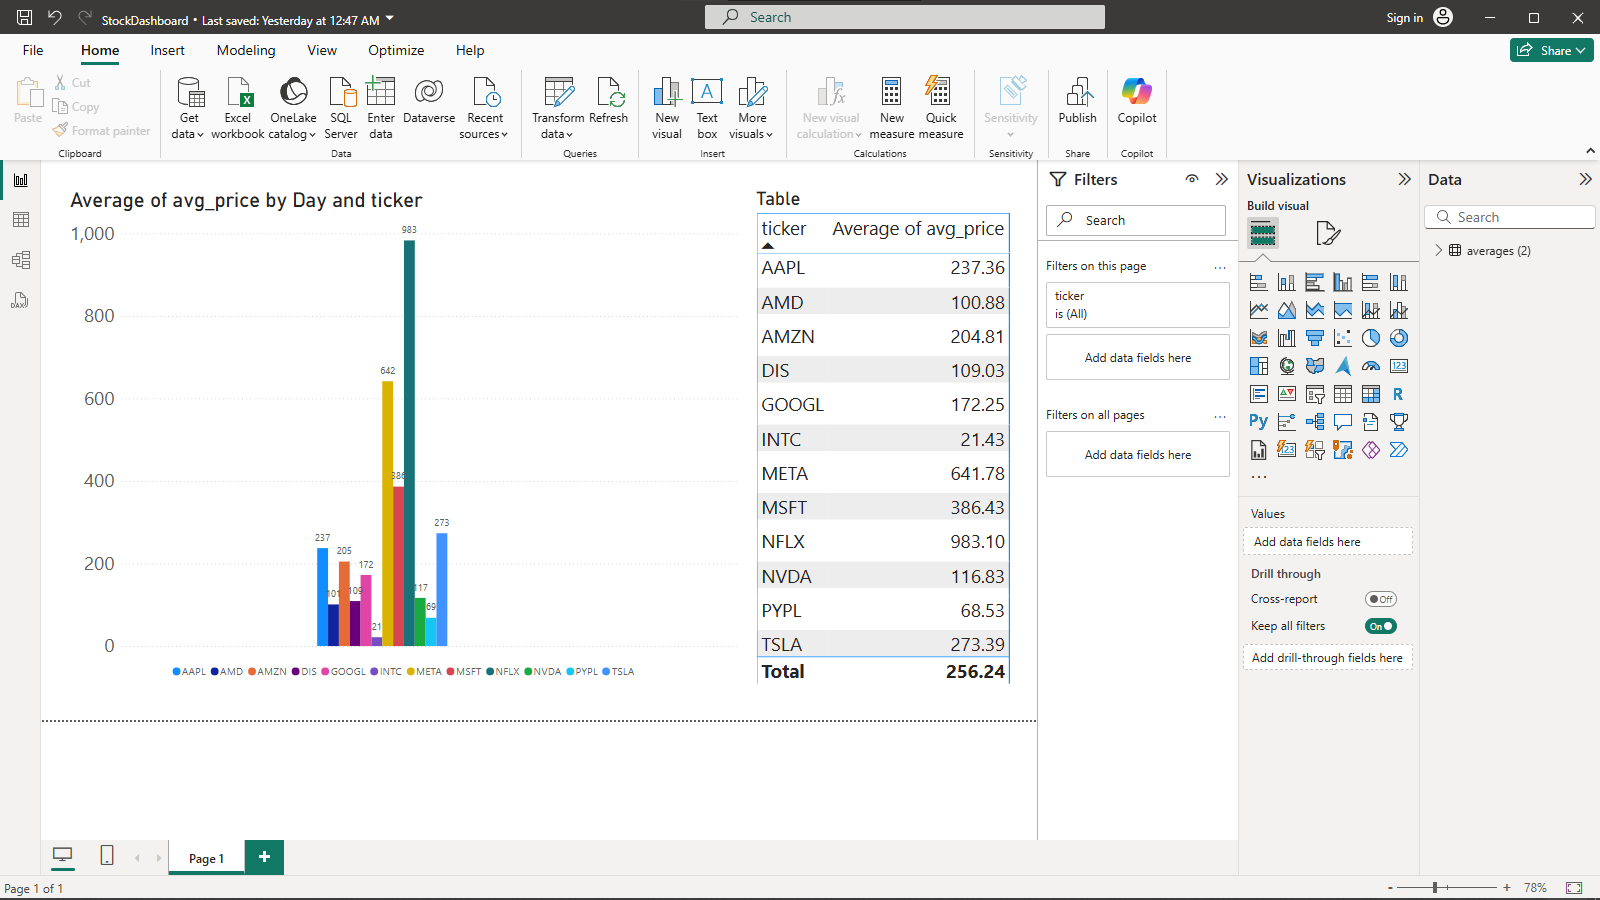

The dashboard page shown, as its layout file describes it:
{"tool":"powerbi","page":{"name":"Page 1","canvas":[1280,720],"ordinal":0},"visuals":[{"type":"clusteredColumnChart","fields":{"Category":["averages (2).window_end.Variation.Date Hierarchy.Day"],"Y":["Avg(averages (2).avg_price)"],"Series":["averages (2).ticker"]},"box":[32.1,36,871.3,640],"z":0},{"type":"tableEx","title":"Table ","fields":{"Values":["averages (2).ticker","Avg(averages (2).avg_price)"]},"box":[913.7,36,366.3,670.8],"z":1000}]}

Visuals, with their boxes on the page's 1280x720 design canvas (x1, y1, x2, y2). These are canvas units, not pixel positions in the 1600x900 screenshot, which may show the page scaled, cropped or inside an application window:
clusteredColumnChart - averages (2).window_end.Variation.Date Hierarchy.Day x Avg(averages (2).avg_price): [left=32, top=36, right=903, bottom=676]
"Table " tableEx: [left=914, top=36, right=1280, bottom=707]
